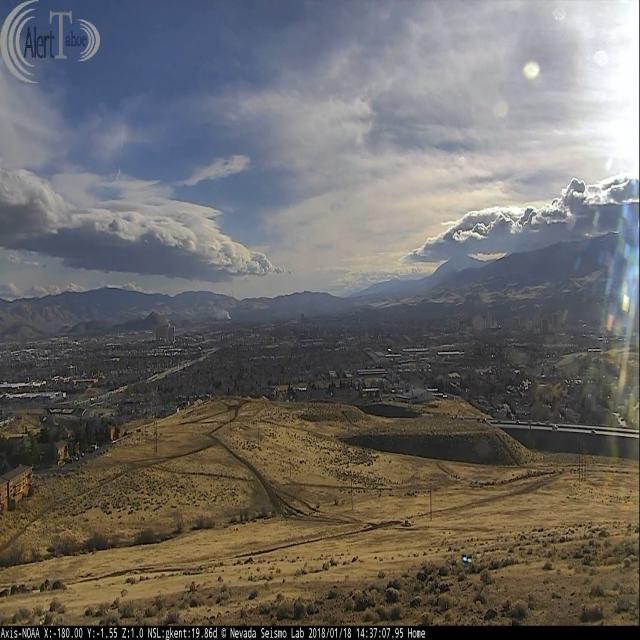smoke: (217, 309, 232, 319)
